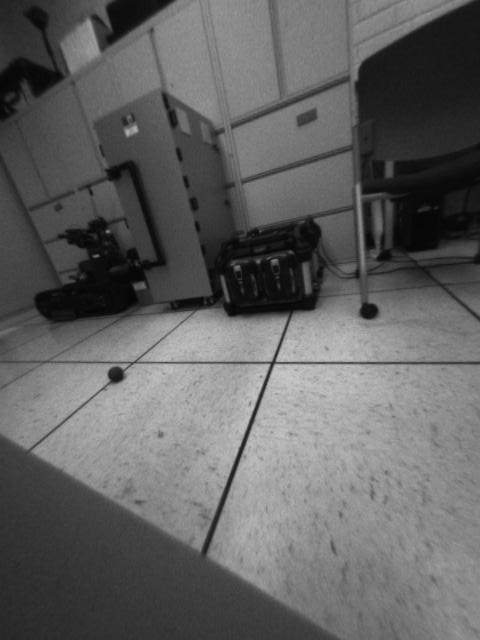dogtoy: (101, 359, 127, 387)
